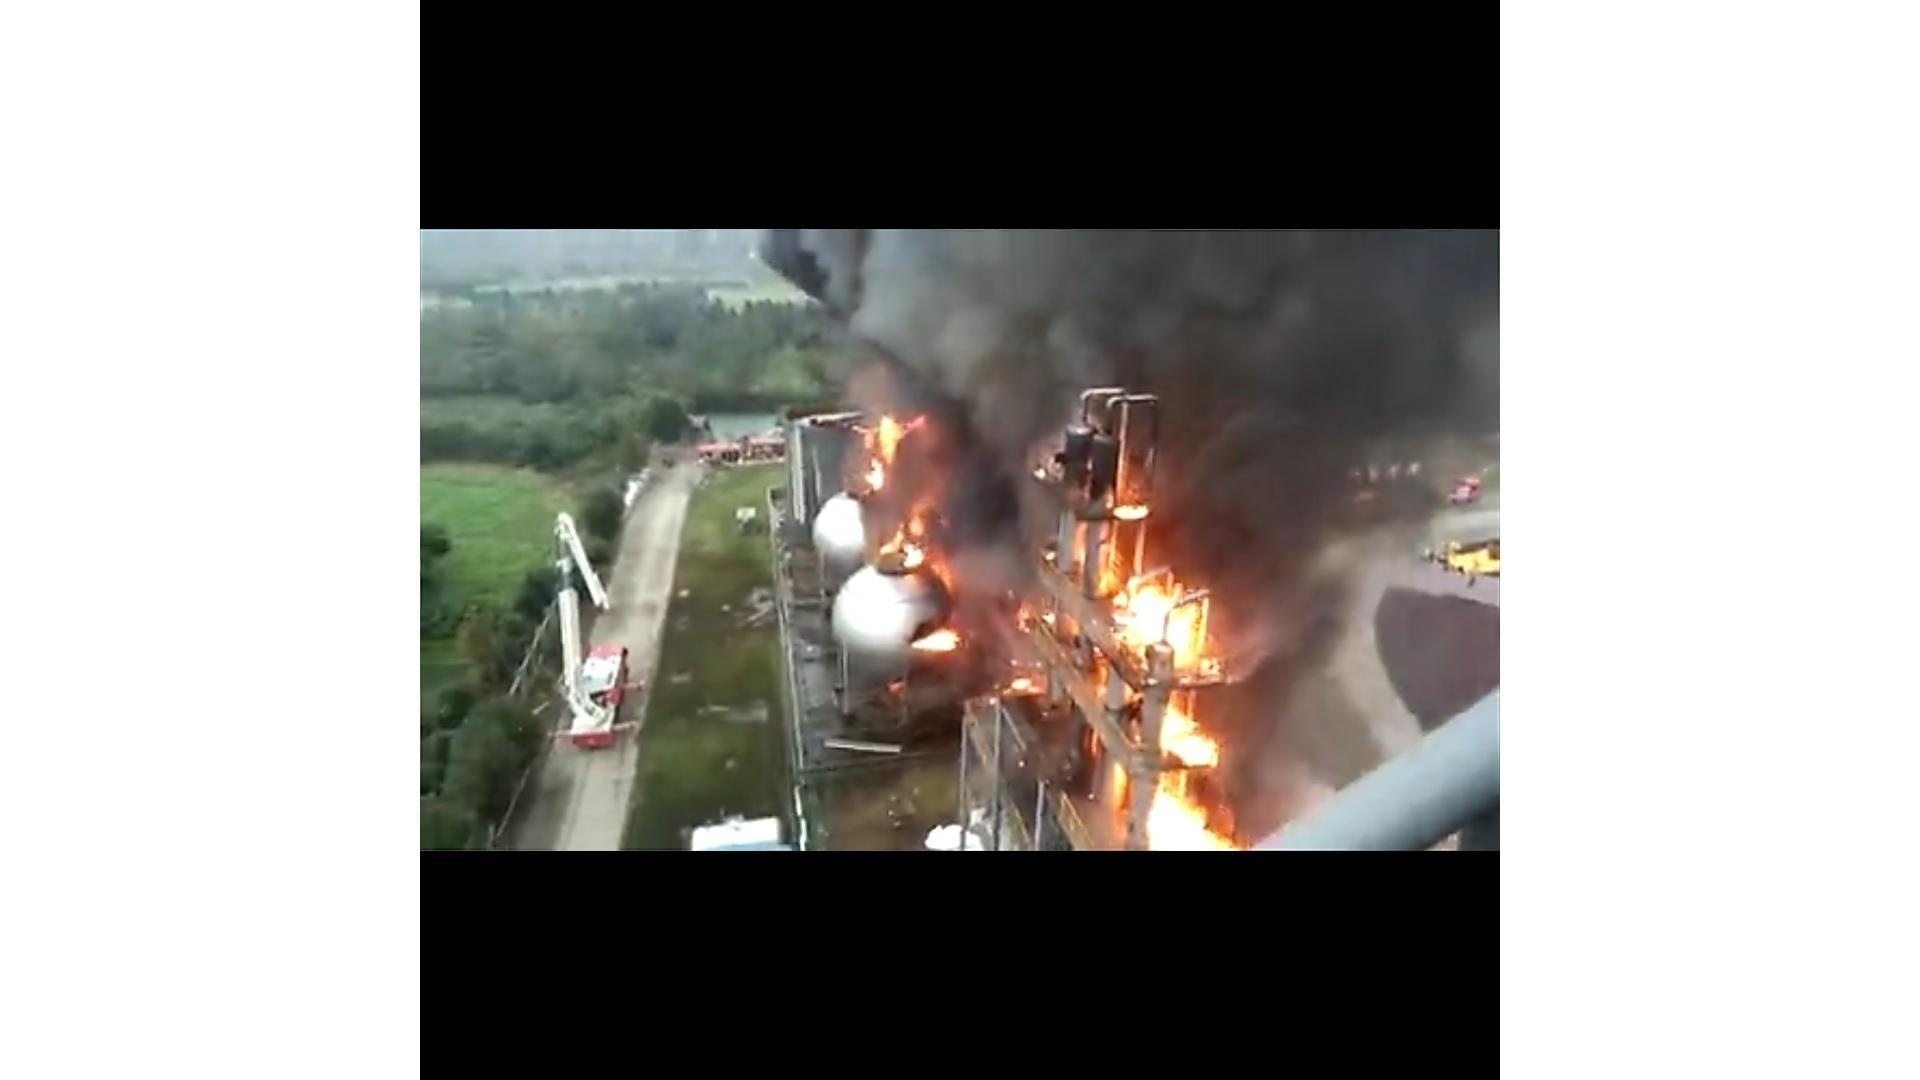fire: (1142, 703, 1226, 849), (1112, 578, 1216, 671), (862, 415, 903, 488), (881, 514, 930, 574)
